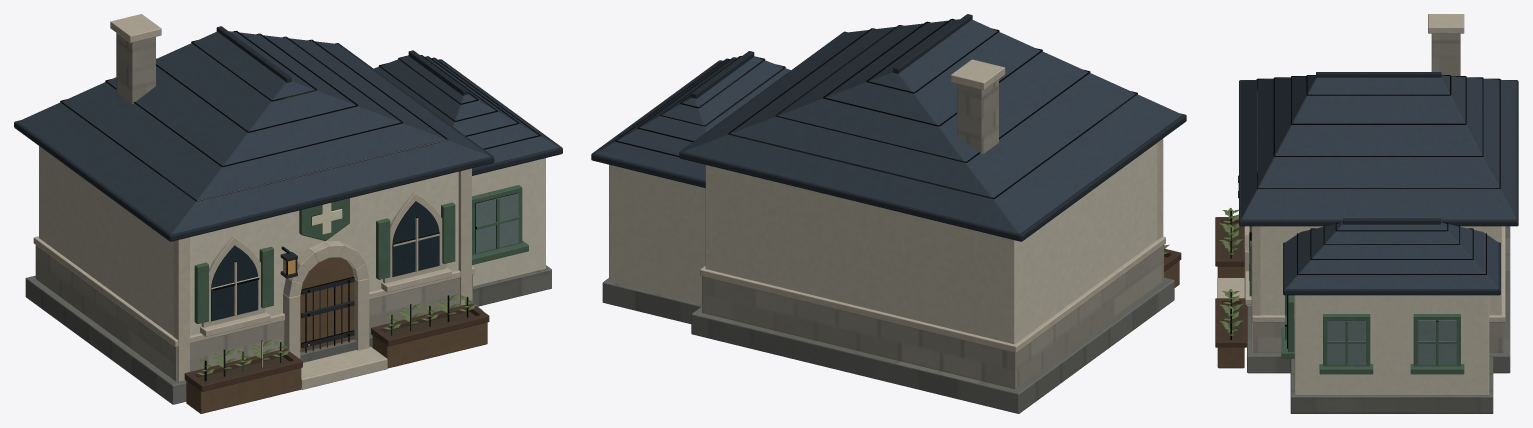
The model's file is Clinic.fbx.
3 renders of one model, left to right at view 1: azimuth 30°, elevation 25°; view 2: azimuth 150°, elevation 25°; view 3: azimuth 270°, elevation 25°, orthographic. The views are drawn at different scales.
Parts seen in each view (by area): view 1: Clinic.001; view 2: Clinic.001; view 3: Clinic.001.
Part boxes in pixels (x1,y1,x2,y2): Clinic.001: (14,14,562,413); Clinic.001: (591,14,1186,413); Clinic.001: (1215,14,1518,413).
Bounding box in the file's own units: 9.81 × 6.27 × 6.88.
